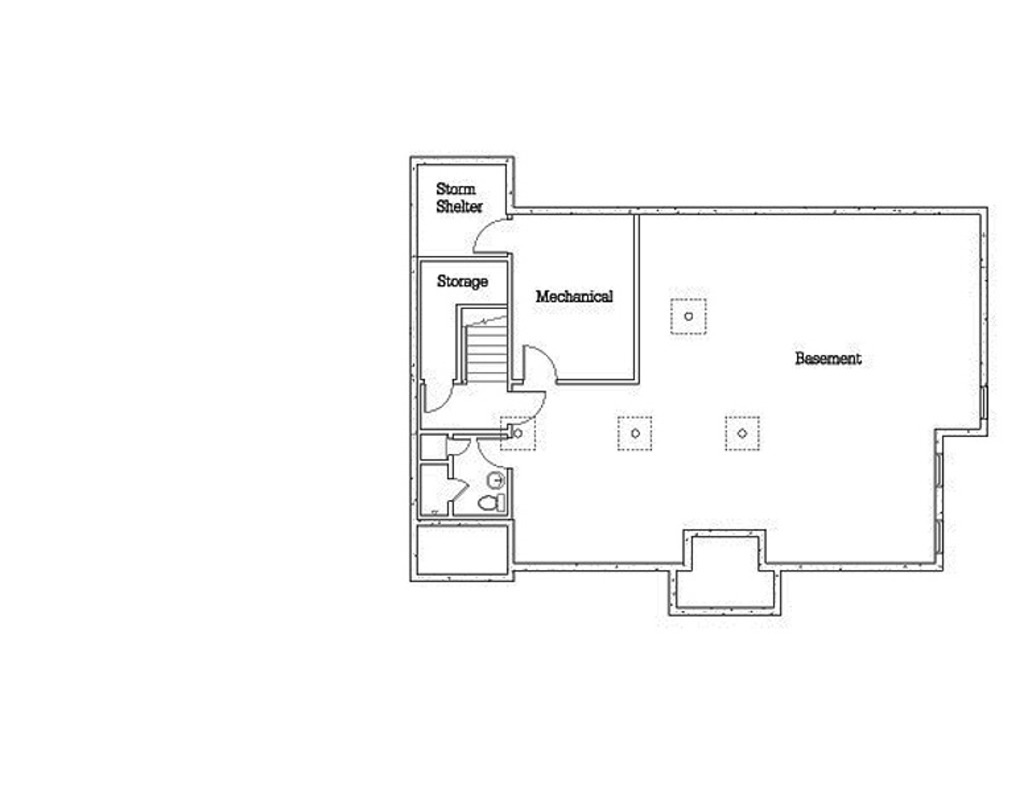door: (472, 215, 527, 256), (518, 339, 563, 387), (499, 389, 544, 427), (425, 379, 452, 419), (476, 437, 511, 467), (447, 475, 471, 503)
large_sink: (466, 492, 506, 511)
small_sink: (474, 468, 507, 493)
stairs: (459, 296, 512, 391)
window: (932, 451, 946, 490), (978, 385, 988, 420), (935, 520, 944, 558)
